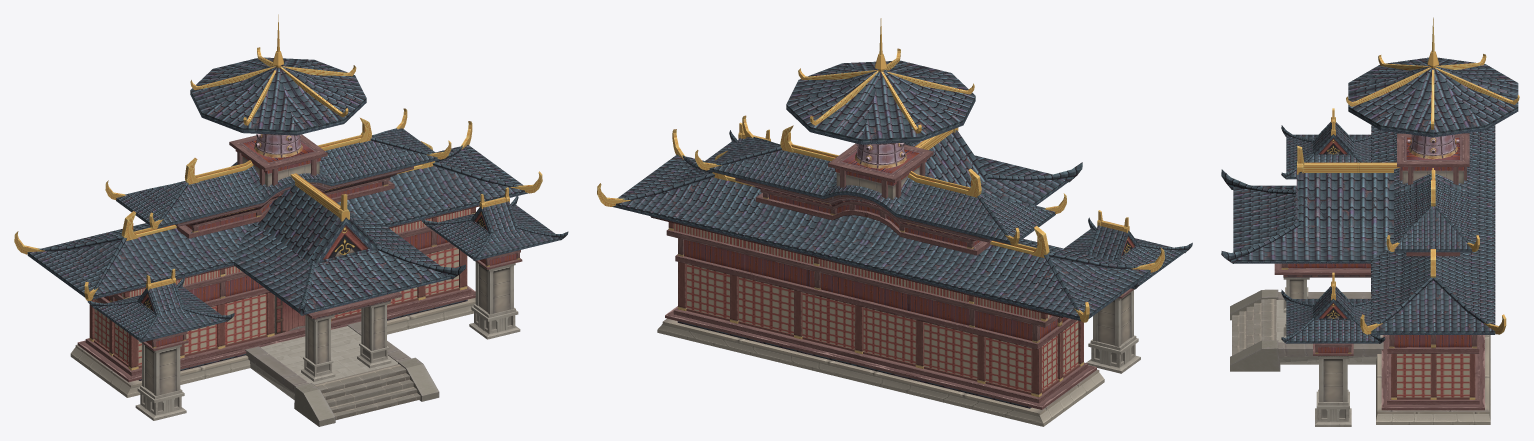
Rendered from mod_zlc_jianzhu024_xy.FBX.
3 views of the same model, side by side, from view 1: azimuth 30°, elevation 25°; view 2: azimuth 150°, elevation 25°; view 3: azimuth 270°, elevation 25° (orthographic). The views are drawn at different scales.
Parts seen in each view (by area): view 1: mod_zlc_jianzhu024_xy; view 2: mod_zlc_jianzhu024_xy; view 3: mod_zlc_jianzhu024_xy.
Boxes of the visible parts, bbox=[...] form: mod_zlc_jianzhu024_xy: bbox=[14, 14, 568, 426]; mod_zlc_jianzhu024_xy: bbox=[597, 18, 1192, 426]; mod_zlc_jianzhu024_xy: bbox=[1221, 17, 1519, 426].
Size of the model in its own units: 3836 by 2598 by 2144.
Materials: 6 (6 with a texture image).
